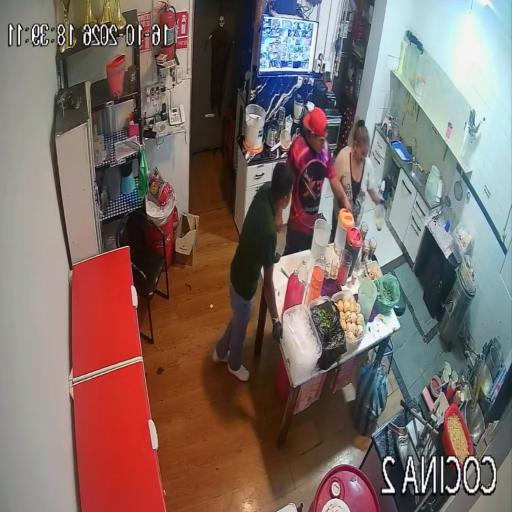Balde: (244, 104, 265, 153)
Cernidor: (270, 130, 291, 153)
Jarra1: (345, 227, 362, 273)
Jarra2: (335, 209, 355, 253)
Jarra3: (358, 277, 378, 321)
Jarra4: (311, 219, 330, 260)
Jarra5: (426, 165, 442, 205)
Licuadora: (289, 93, 304, 137)
Licuadora2: (266, 123, 277, 147)
Microondas: (325, 109, 341, 151)
Persona1: (284, 107, 351, 254)
Persona2: (334, 119, 381, 226), (331, 198, 340, 241)
Persona3: (213, 163, 293, 381)
Taper: (365, 261, 382, 281)
Taper2: (331, 290, 366, 352)
Taper3: (310, 297, 347, 370)
Taper4: (282, 304, 322, 384)
